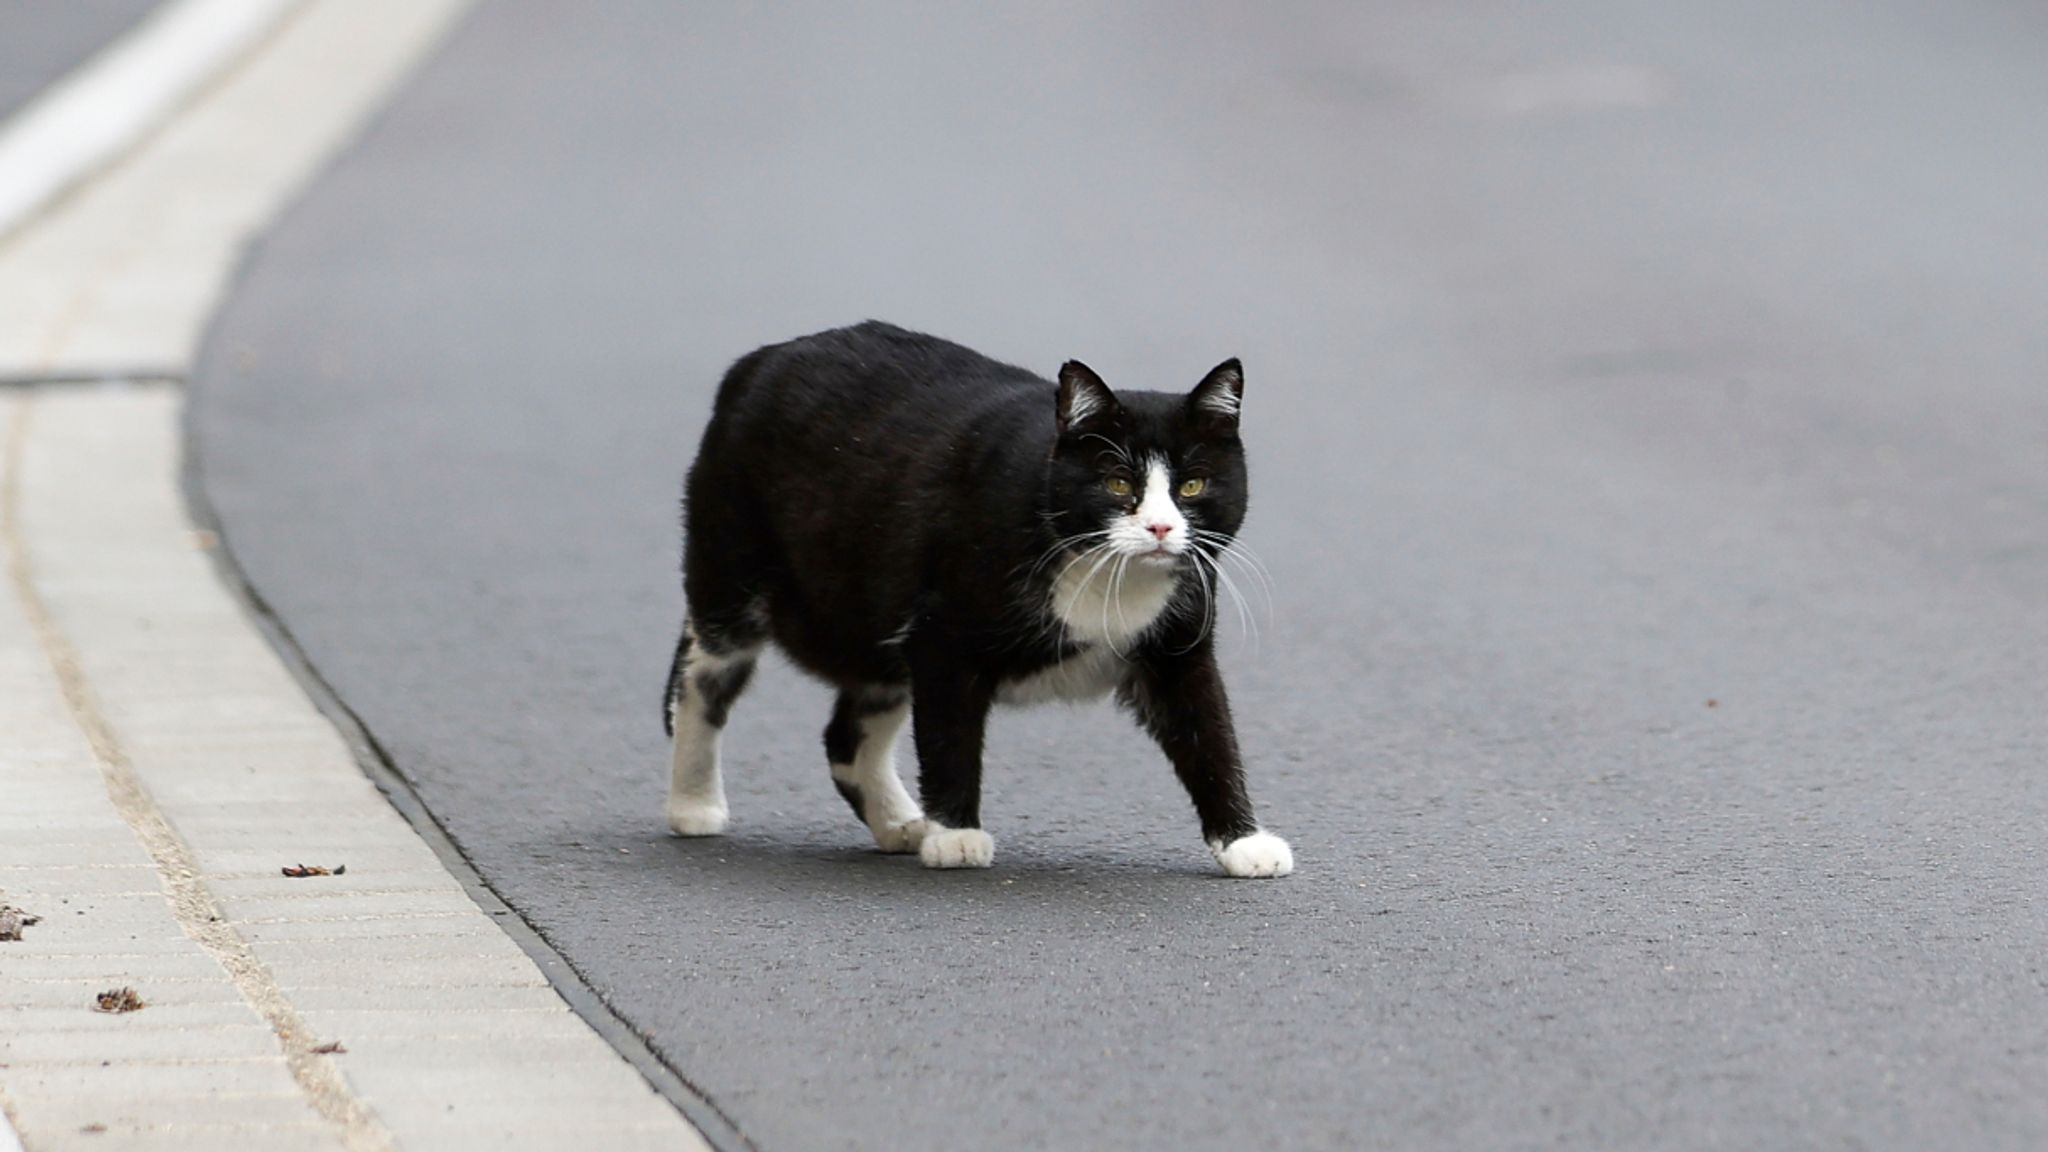cat: (671, 315, 1295, 878)
